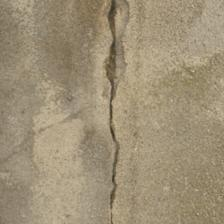Crack: (49, 1, 85, 218)
